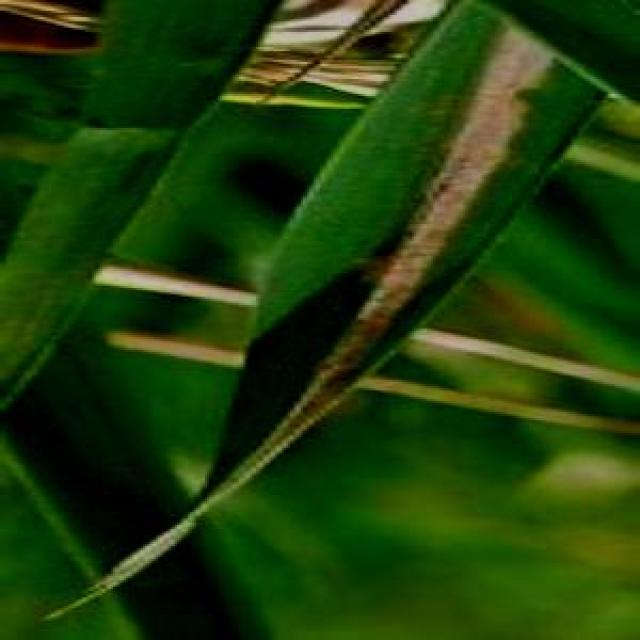Bacterial_Leaf_Blight: (356, 32, 578, 329)
